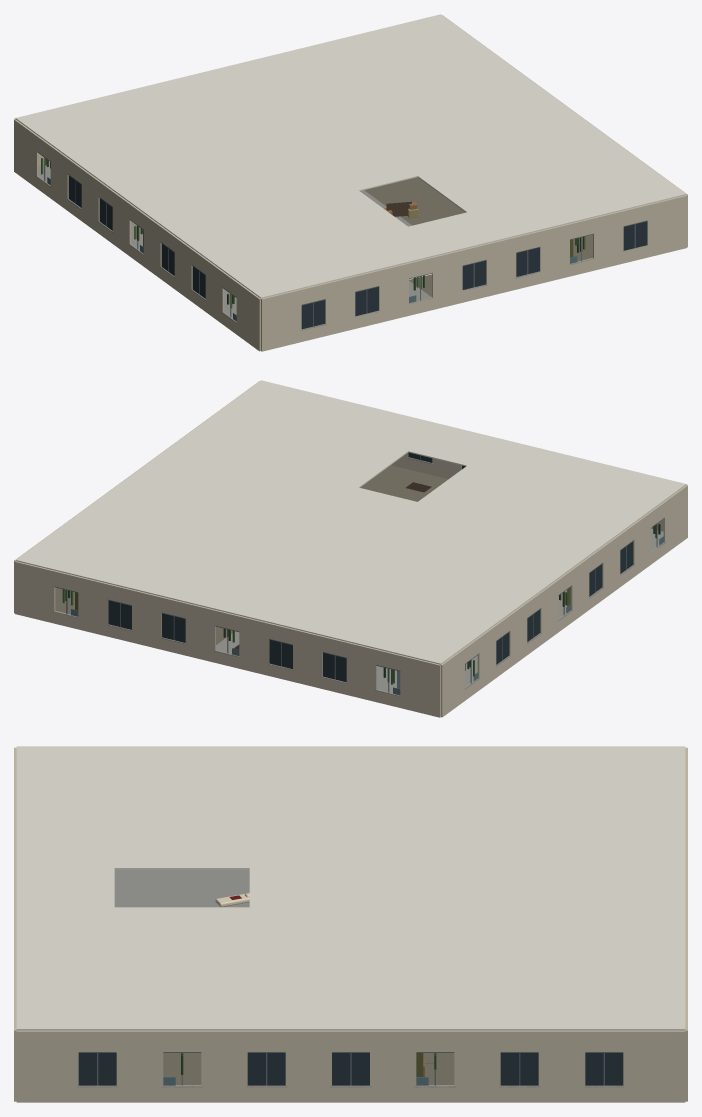
Rendered from tw_interior_camp_32.glb.
3 views of the same model, one above another, from view 1: azimuth 30°, elevation 25°; view 2: azimuth 150°, elevation 25°; view 3: azimuth 270°, elevation 25° (orthographic). The views are drawn at different scales.
Parts seen in each view (by area): view 1: tw_interior_camp_32; view 2: tw_interior_camp_32; view 3: tw_interior_camp_32.
Part boxes in pixels (bbox=[...]): tw_interior_camp_32: bbox=[14, 14, 687, 351]; tw_interior_camp_32: bbox=[14, 380, 687, 717]; tw_interior_camp_32: bbox=[14, 746, 687, 1102].
Size of what is drawn, in the model's own units: 32.33 by 3.82 by 31.94.
3 materials, 3 textured.
